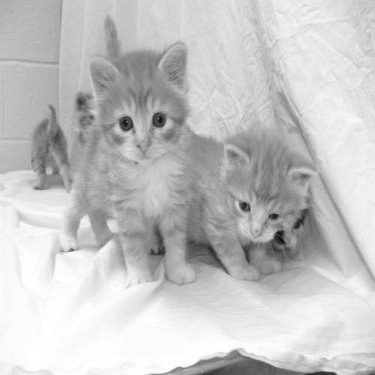cat: (89, 12, 197, 288), (144, 138, 320, 284), (28, 100, 72, 189), (67, 89, 101, 185)
